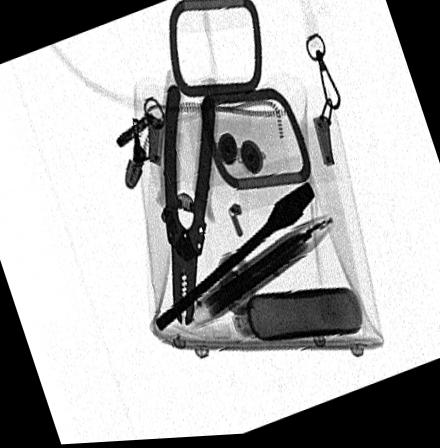Pliers: (160, 84, 214, 329)
Powerbank: (175, 216, 335, 338)
Wrench: (155, 184, 316, 334)
